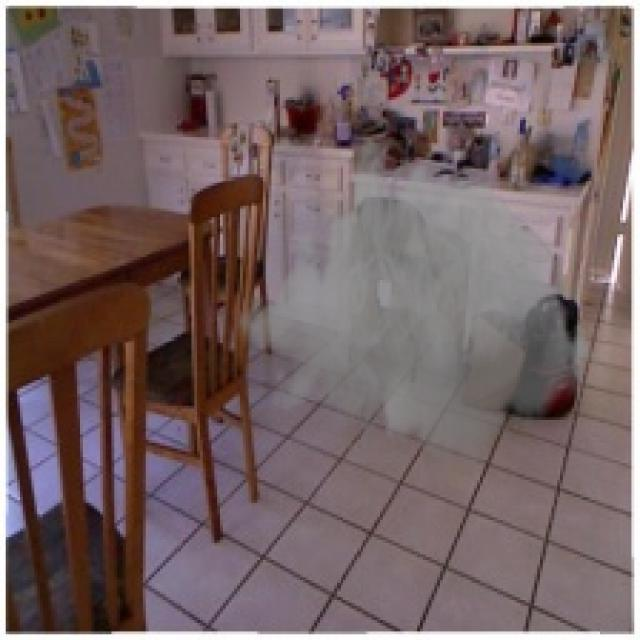smoke: (235, 126, 594, 500)
